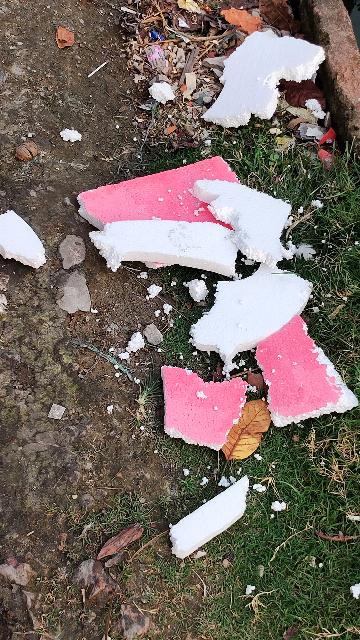cocksheet: (66, 122, 351, 483), (200, 23, 318, 150), (149, 468, 264, 564), (0, 199, 62, 289)
